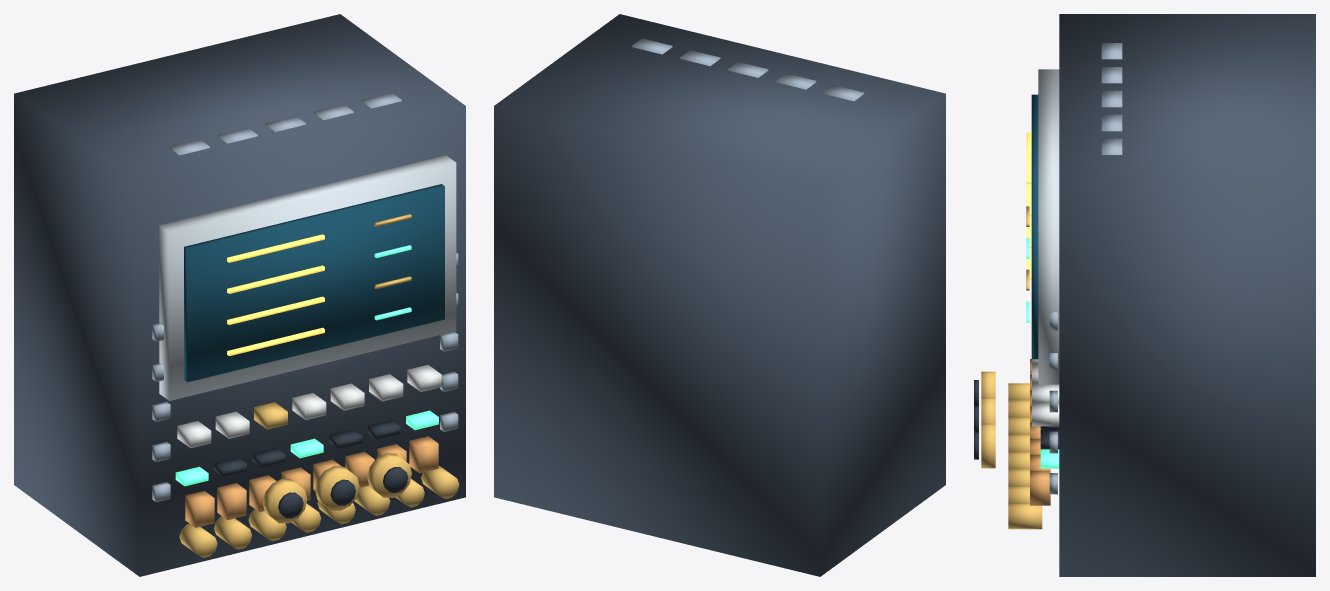
File: 77_L89_ShieldingScenarioSafetyController.glb
The picture shows the model from 3 angles, left to right: view 1: azimuth 30°, elevation 25°; view 2: azimuth 150°, elevation 25°; view 3: azimuth 270°, elevation 25°; orthographic projection. The views are drawn at different scales.
Visible parts, largest first — view 1: L87_ShieldingScenarioSafetyCo_Part_0000, L87_ShieldingScenarioSafetyCo_Part_0002, L87_ShieldingScenarioSafetyCo_Part_0001, L87_ShieldingScenarioSafetyCo_Part_0004, L87_ShieldingScenarioSafetyCo_Part_0009, L87_ShieldingScenarioSafetyCo_Part_0008, L87_ShieldingScenarioSafetyCo_Part_0006, L87_ShieldingScenarioSafetyCo_Part_0003, L87_ShieldingScenarioSafetyCo_Part_0007, L87_ShieldingScenarioSafetyCo_Part_0005, L87_ShieldingScenarioSafetyCo_Part_0010, L87_ShieldingScenarioSafetyCo_Part_0012 (+1 smaller); view 2: L87_ShieldingScenarioSafetyCo_Part_0000, L87_ShieldingScenarioSafetyCo_Part_0008; view 3: L87_ShieldingScenarioSafetyCo_Part_0000, L87_ShieldingScenarioSafetyCo_Part_0001, L87_ShieldingScenarioSafetyCo_Part_0004, L87_ShieldingScenarioSafetyCo_Part_0008, L87_ShieldingScenarioSafetyCo_Part_0002, L87_ShieldingScenarioSafetyCo_Part_0009, L87_ShieldingScenarioSafetyCo_Part_0006, L87_ShieldingScenarioSafetyCo_Part_0003, L87_ShieldingScenarioSafetyCo_Part_0014, L87_ShieldingScenarioSafetyCo_Part_0005.
Part boxes in pixels (x1,y1,x2,y2): L87_ShieldingScenarioSafetyCo_Part_0000: (14,14,465,576); L87_ShieldingScenarioSafetyCo_Part_0002: (184,184,444,382); L87_ShieldingScenarioSafetyCo_Part_0001: (159,155,456,400); L87_ShieldingScenarioSafetyCo_Part_0004: (179,214,459,557); L87_ShieldingScenarioSafetyCo_Part_0009: (185,436,438,527); L87_ShieldingScenarioSafetyCo_Part_0008: (152,92,458,502); L87_ShieldingScenarioSafetyCo_Part_0006: (177,365,441,448); L87_ShieldingScenarioSafetyCo_Part_0003: (227,234,324,356); L87_ShieldingScenarioSafetyCo_Part_0007: (214,420,400,476); L87_ShieldingScenarioSafetyCo_Part_0005: (175,245,438,486); L87_ShieldingScenarioSafetyCo_Part_0010: (262,479,307,523); L87_ShieldingScenarioSafetyCo_Part_0012: (315,466,359,510); L87_ShieldingScenarioSafetyCo_Part_0000: (494,14,945,576); L87_ShieldingScenarioSafetyCo_Part_0008: (632,38,864,101); L87_ShieldingScenarioSafetyCo_Part_0000: (1059,14,1315,576); L87_ShieldingScenarioSafetyCo_Part_0001: (1038,69,1059,384); L87_ShieldingScenarioSafetyCo_Part_0004: (1008,206,1042,529); L87_ShieldingScenarioSafetyCo_Part_0008: (1049,43,1122,494); L87_ShieldingScenarioSafetyCo_Part_0002: (1031,94,1038,359); L87_ShieldingScenarioSafetyCo_Part_0009: (1030,359,1050,505); L87_ShieldingScenarioSafetyCo_Part_0006: (1032,359,1059,426); L87_ShieldingScenarioSafetyCo_Part_0003: (1026,132,1031,279); L87_ShieldingScenarioSafetyCo_Part_0014: (981,423,995,468); L87_ShieldingScenarioSafetyCo_Part_0005: (1026,238,1059,468).
Bounding box in the file's own units: 1.12 × 1.29 × 0.996.
